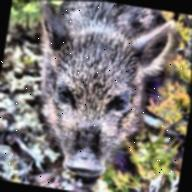boar: (9, 0, 183, 192)
